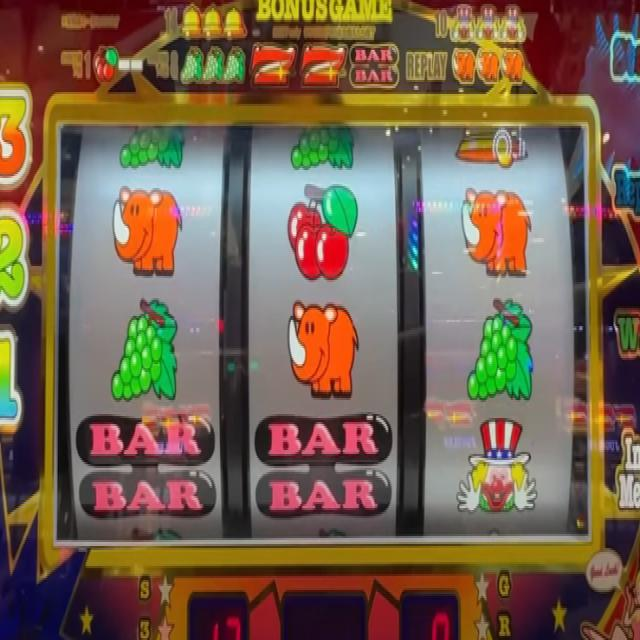bar: (74, 407, 217, 515), (255, 416, 391, 520), (349, 44, 399, 83)
bell: (113, 184, 183, 276), (456, 128, 528, 172), (221, 0, 246, 41), (180, 1, 202, 41), (202, 0, 222, 41)
cherry: (286, 182, 359, 282), (92, 44, 119, 81)
clown: (458, 416, 538, 516), (450, 0, 476, 42), (476, 6, 501, 46), (501, 4, 525, 45)
display: (53, 114, 591, 541)
elephant: (288, 299, 361, 398), (462, 185, 532, 278), (451, 50, 475, 84), (476, 49, 499, 83), (503, 49, 522, 83)
grape: (110, 294, 178, 405), (468, 295, 534, 408), (118, 129, 186, 178), (290, 128, 355, 174), (180, 48, 201, 86), (224, 45, 244, 84), (204, 52, 222, 81)
z: (301, 41, 344, 88), (252, 43, 295, 89)
